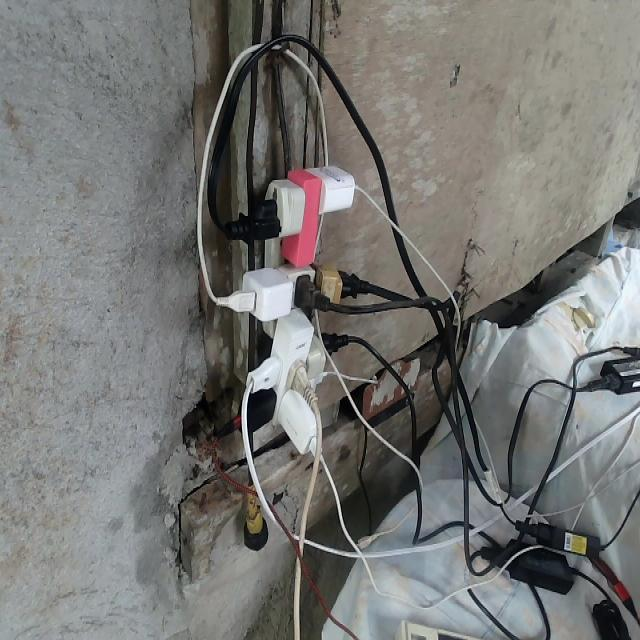-: (228, 155, 358, 457)
